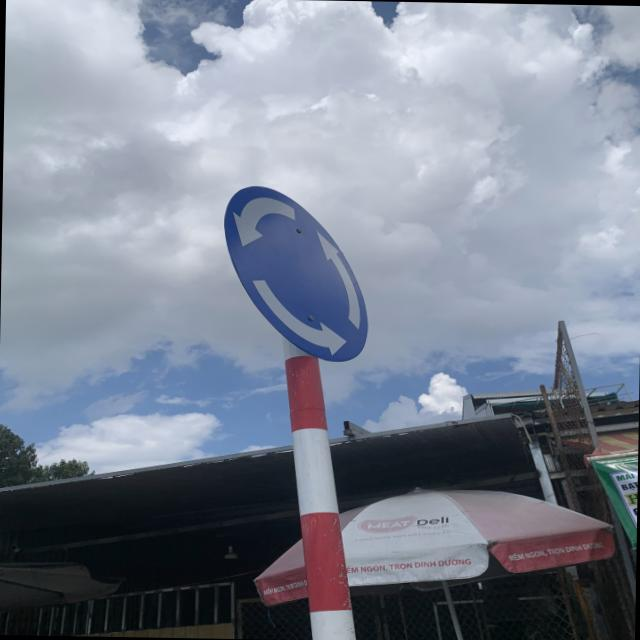Xe_Bus: (218, 180, 374, 361)
